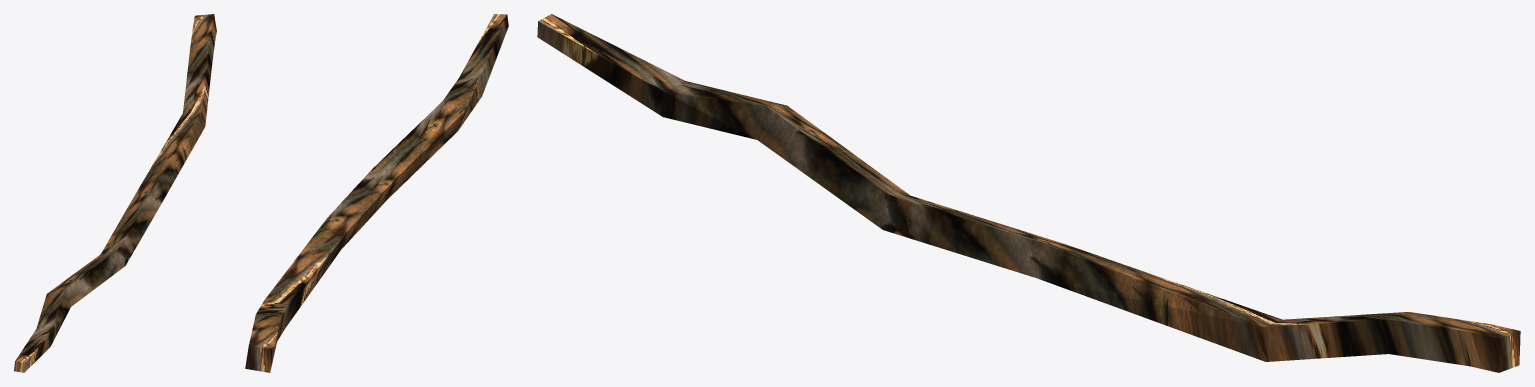
The model's file is FallenLog_1.gltf.
3 renders of one model, left to right at view 1: azimuth 30°, elevation 25°; view 2: azimuth 210°, elevation 25°; view 3: azimuth 270°, elevation 25°, orthographic. The views are drawn at different scales.
Parts seen in each view (by area): view 1: FallenLog_1; view 2: FallenLog_1; view 3: FallenLog_1.
Part boxes in pixels (x1,y1,x2,y2): FallenLog_1: (14, 14, 216, 372); FallenLog_1: (245, 14, 508, 372); FallenLog_1: (537, 14, 1520, 372).
Bounding box in the file's own units: 31.16 × 4.66 × 31.36.
1 material, 1 textured.
